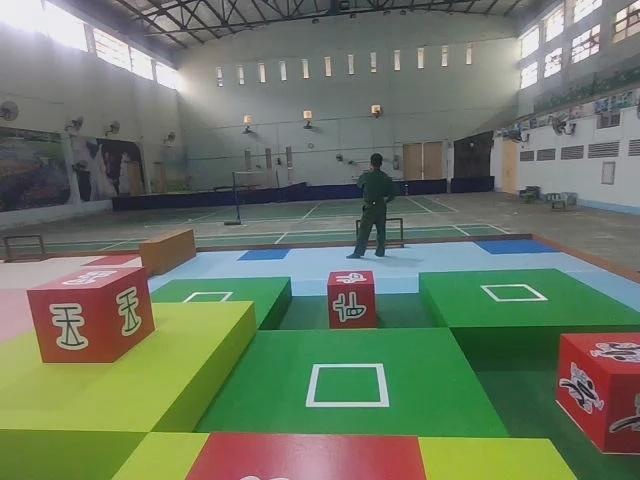R1: (553, 327, 640, 456)
R2 Real: (24, 264, 158, 367), (323, 269, 380, 331)
